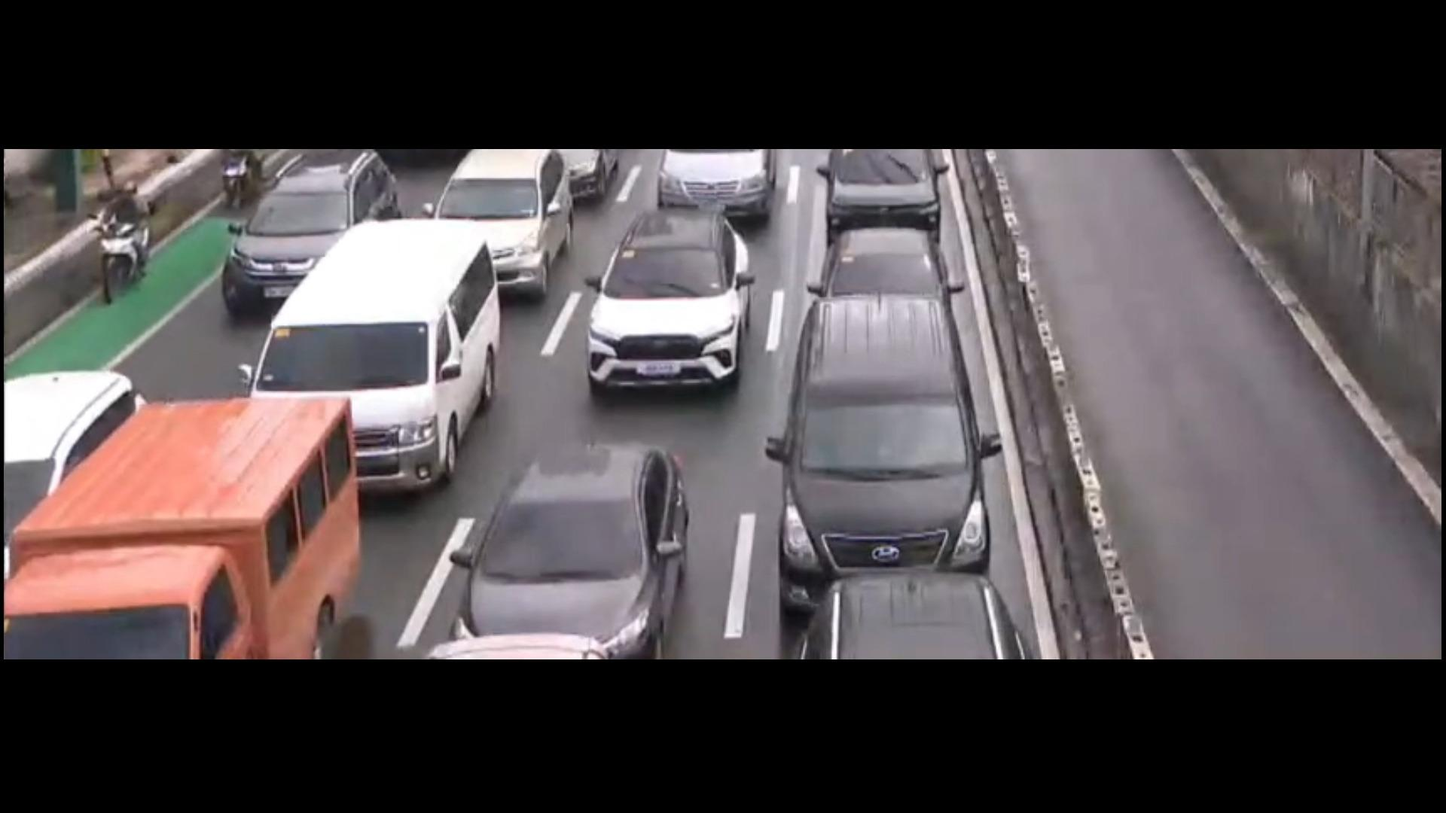Motorcycle: (89, 166, 172, 328), (211, 149, 277, 213)
Multicab: (0, 381, 388, 660)
SUV: (751, 296, 1023, 609), (556, 201, 778, 411), (211, 142, 401, 320), (434, 138, 592, 289)
Sedan: (441, 428, 714, 642)
Van: (233, 221, 526, 507)
